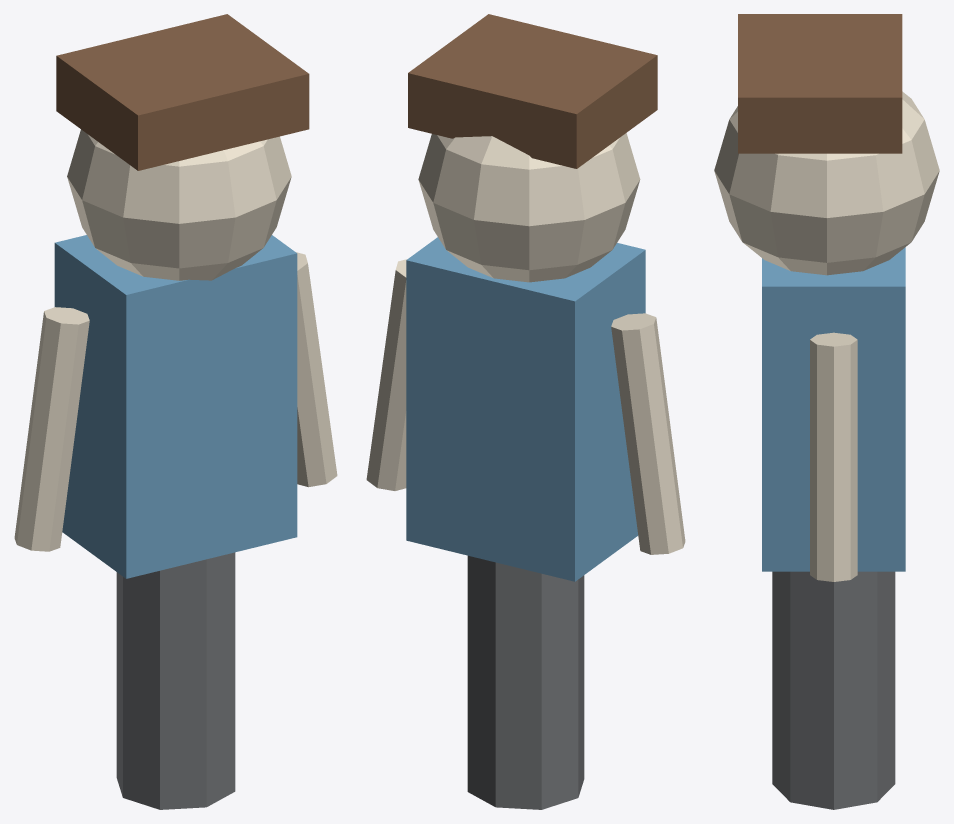
The model's file is townsperson-BE9TL8zV.glb.
The picture shows the model from 3 angles, left to right: view 1: azimuth 30°, elevation 25°; view 2: azimuth 150°, elevation 25°; view 3: azimuth 270°, elevation 25°; orthographic projection.
Visible parts, largest first — view 1: Townsperson_Body, Townsperson_Legs, Townsperson_Hair, Townsperson_Head, Townsperson_Arm_-0.42, Townsperson_Arm_0.42; view 2: Townsperson_Body, Townsperson_Legs, Townsperson_Hair, Townsperson_Head, Townsperson_Arm_-0.42, Townsperson_Arm_0.42; view 3: Townsperson_Body, Townsperson_Legs, Townsperson_Head, Townsperson_Hair, Townsperson_Arm_0.42.
Boxes of the visible parts, <box> form: Townsperson_Body: <box>54,235,297,578</box>; Townsperson_Legs: <box>116,552,235,809</box>; Townsperson_Hair: <box>56,14,309,170</box>; Townsperson_Head: <box>67,129,291,280</box>; Townsperson_Arm_-0.42: <box>14,307,89,551</box>; Townsperson_Arm_0.42: <box>296,252,337,487</box>; Townsperson_Body: <box>406,237,645,581</box>; Townsperson_Legs: <box>467,555,584,809</box>; Townsperson_Hair: <box>408,14,657,168</box>; Townsperson_Head: <box>418,133,640,282</box>; Townsperson_Arm_-0.42: <box>611,313,685,554</box>; Townsperson_Arm_0.42: <box>366,259,407,490</box>; Townsperson_Body: <box>762,247,905,571</box>; Townsperson_Legs: <box>772,571,895,809</box>; Townsperson_Head: <box>714,91,939,275</box>; Townsperson_Hair: <box>738,14,902,153</box>; Townsperson_Arm_0.42: <box>810,332,857,581</box>.
Size of the model in its own units: 1.08 by 2.35 by 0.66.
